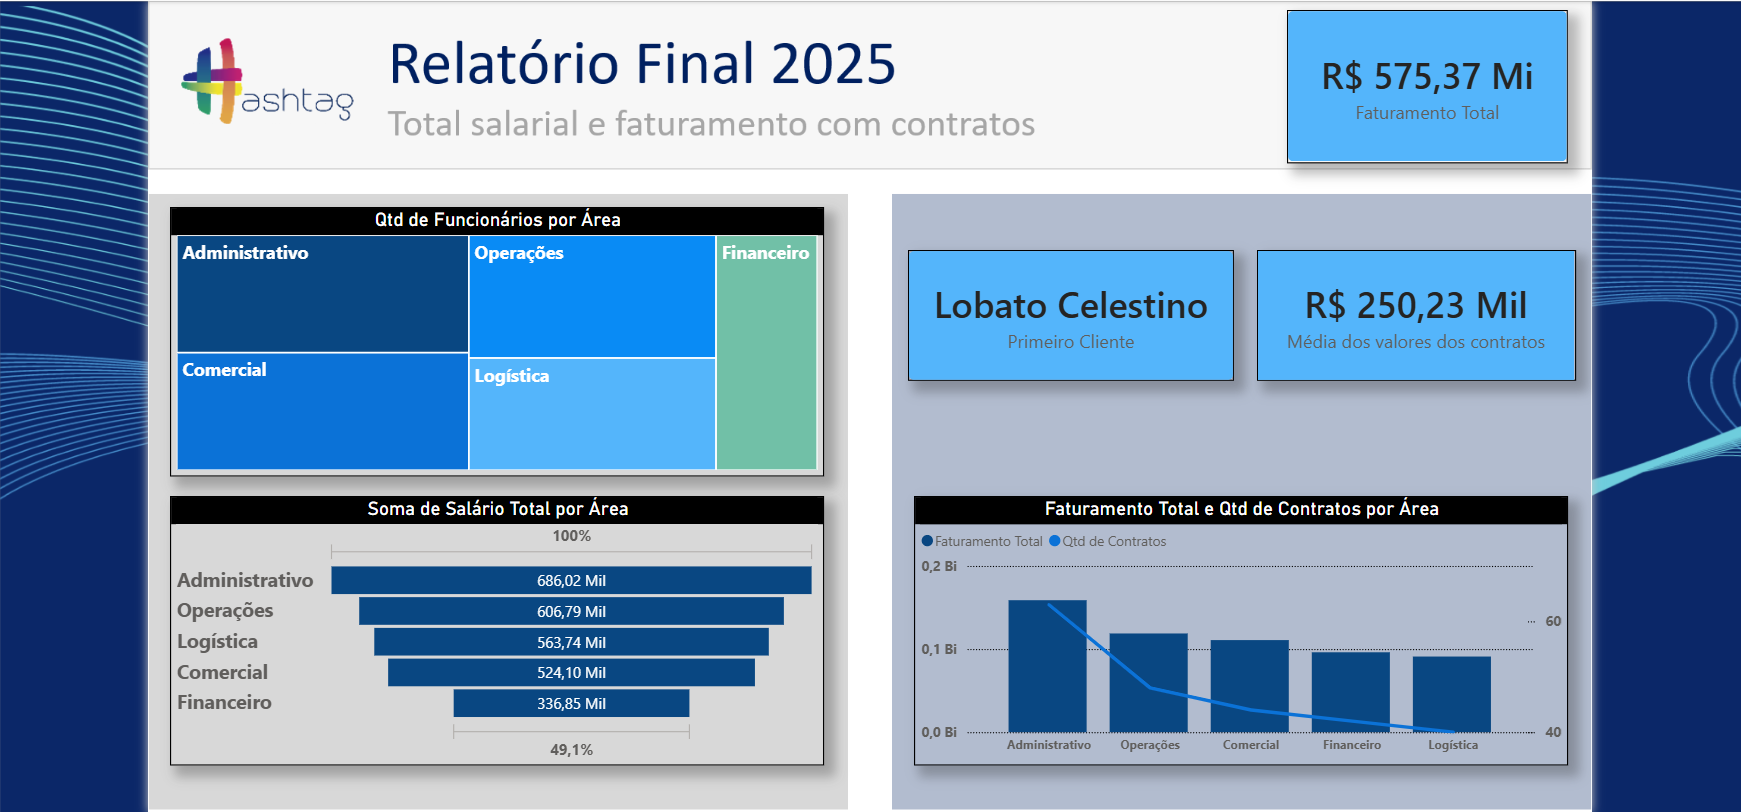

The dashboard page shown, as its layout file describes it:
{"tool":"powerbi","page":{"name":"Página 1","canvas":[1280,720],"ordinal":0},"visuals":[{"type":"treemap","fields":{"Values":["BaseServicosPrestados.Qtd de Funcionários"],"Group":["CadastroCargos.Área"]},"box":[19.5,182.7,579.9,239.4],"z":0},{"type":"cardVisual","fields":{"Data":["Min(CadastroClientes.Cliente)"]},"box":[673.9,220.8,289.1,116.2],"z":1000},{"type":"cardVisual","fields":{"Data":["BaseServicosPrestados.Média dos valores dos contratos"]},"box":[983.3,220.8,282.9,116.2],"z":2000},{"type":"funnel","fields":{"Y":["Sum(CadastroFuncionarios.Salário Total)"],"Category":["CadastroCargos.Área"]},"box":[19.5,438.9,579.9,239.4],"z":3000},{"type":"lineClusteredColumnComboChart","fields":{"Y":["BaseServicosPrestados.Faturamento Total"],"Category":["CadastroCargos.Área"],"Y2":["BaseServicosPrestados.Qtd de Contratos"]},"box":[679.2,438.9,579.9,239.4],"z":4000},{"type":"cardVisual","fields":{"Data":["BaseServicosPrestados.Faturamento Total"]},"box":[1010,8,249.2,135.7],"z":5000}]}

Visuals, with their boxes on the page's 1280x720 design canvas (x1, y1, x2, y2). These are canvas units, not pixel positions in the 1741x812 screenshot, which may show the page scaled, cropped or inside an application window:
treemap - BaseServicosPrestados.Qtd de Funcionários x CadastroCargos.Área: [20,183,599,422]
cardVisual - Min(CadastroClientes.Cliente): [674,221,963,337]
cardVisual - BaseServicosPrestados.Média dos valores dos contratos: [983,221,1266,337]
funnel - Sum(CadastroFuncionarios.Salário Total) x CadastroCargos.Área: [20,439,599,678]
lineClusteredColumnComboChart - BaseServicosPrestados.Faturamento Total x CadastroCargos.Área: [679,439,1259,678]
cardVisual - BaseServicosPrestados.Faturamento Total: [1010,8,1259,144]
